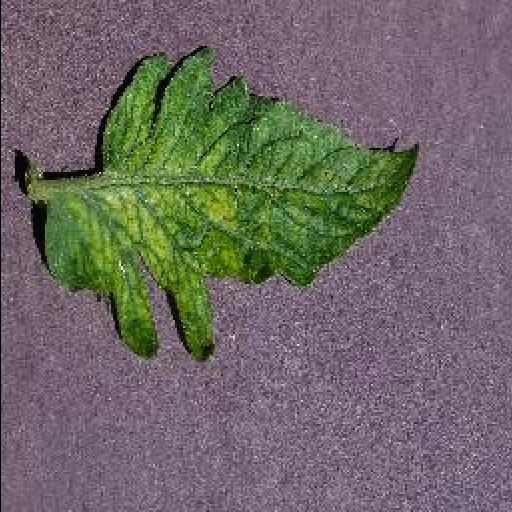Mosaic Virus: (36, 44, 426, 366)
